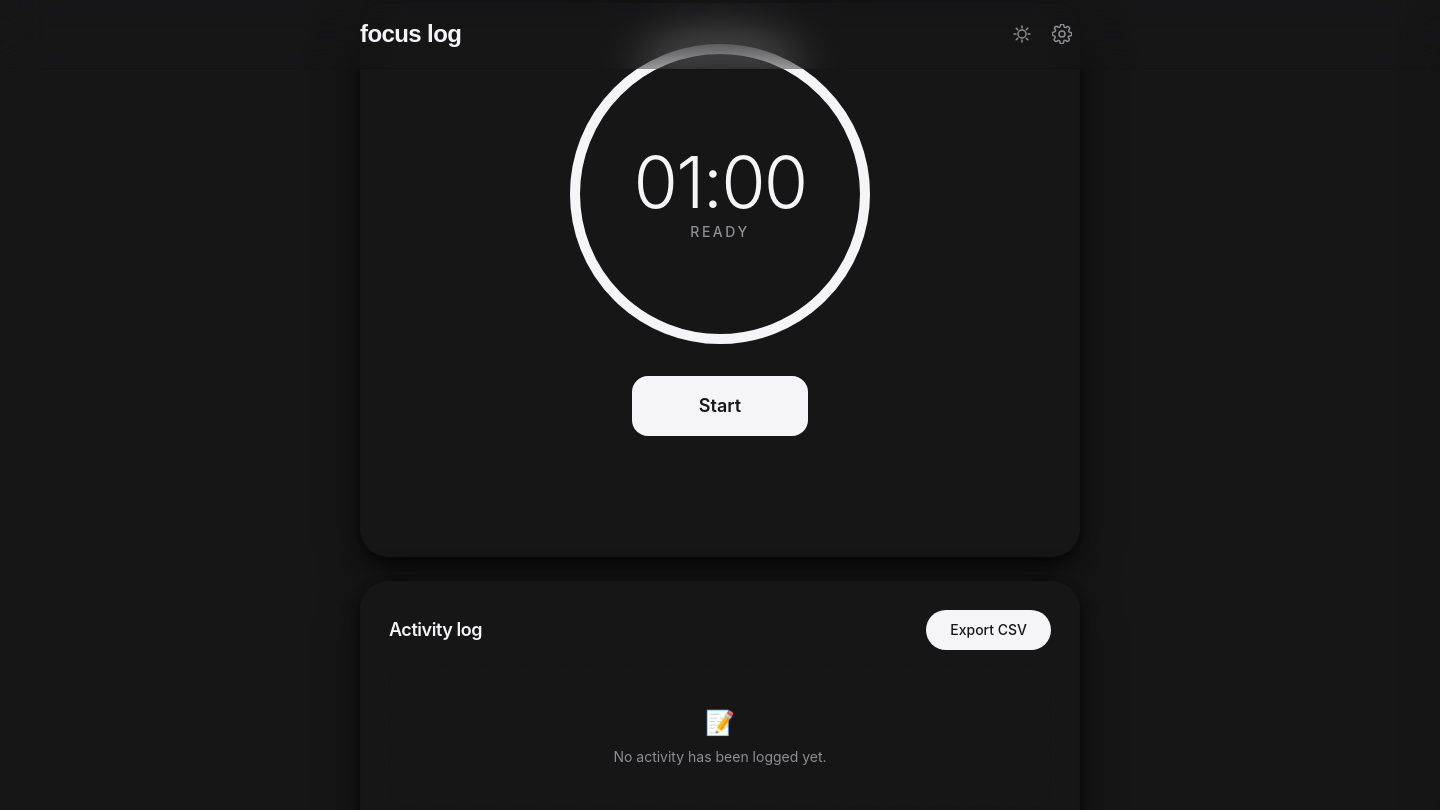
Test: Append/persist failure retention (Req 7.5) › keeps the prompt open with retained text and surfaces a save error
This screenshot has width=1440, height=810.
(page scrolled)
Note: Start a 1-minute session (duration set via initialDurationSec prop).
Click the button "Start": (720, 406) 632,376 -> 808,436
Wait 300 ms
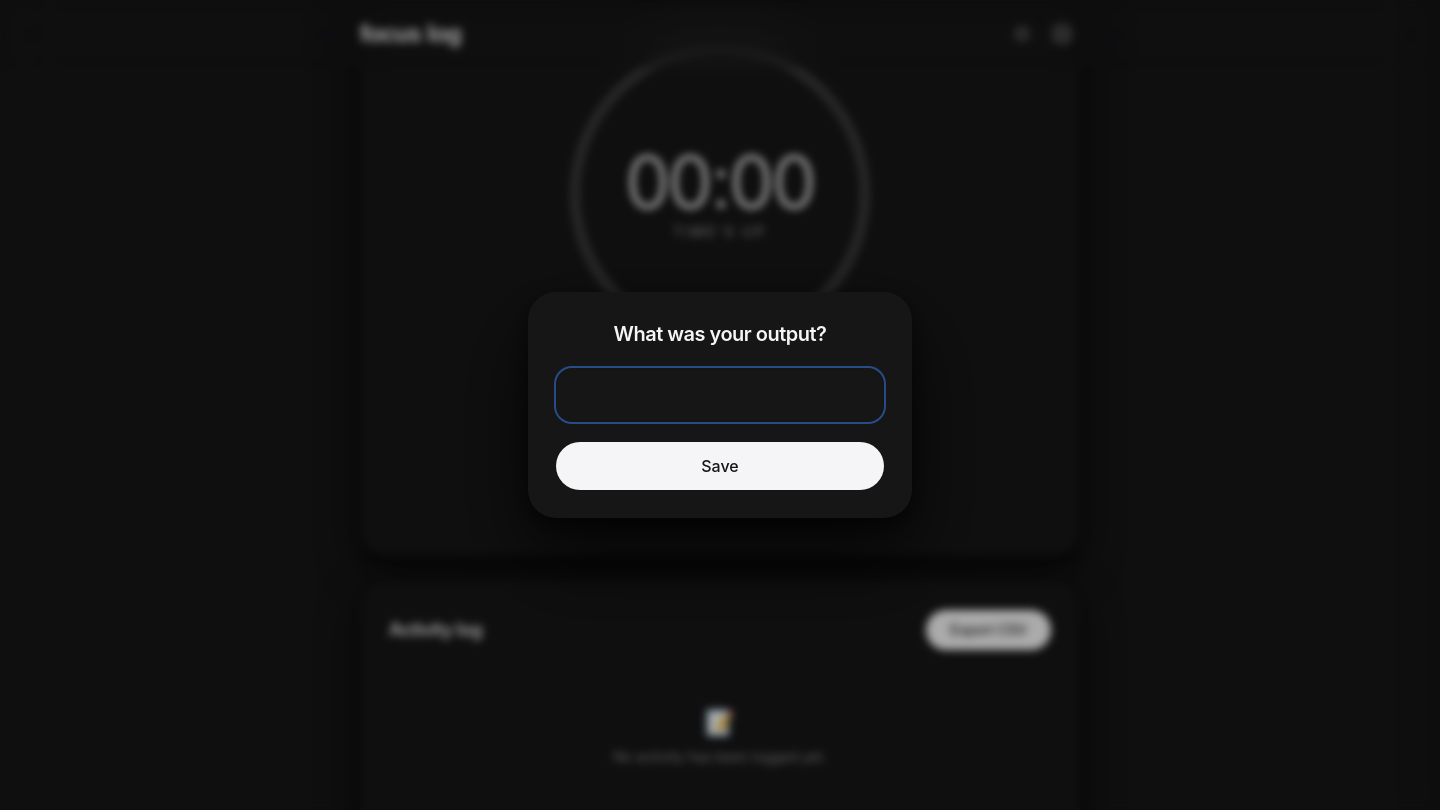
In the field: (720, 395) 556,368 -> 884,422, type "wrote tests"
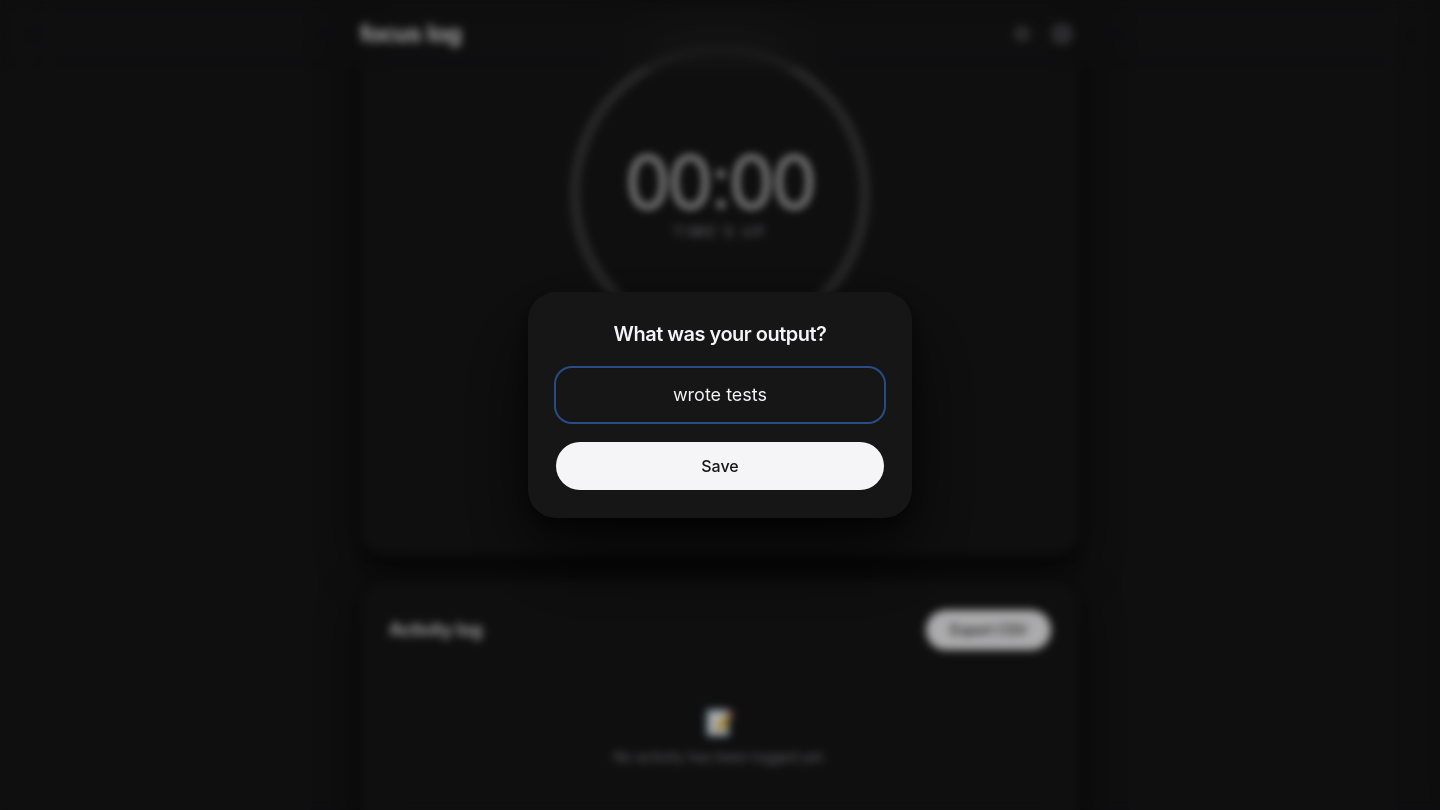
Click the button "Save": (720, 466) 556,442 -> 884,490
(page scrolled)
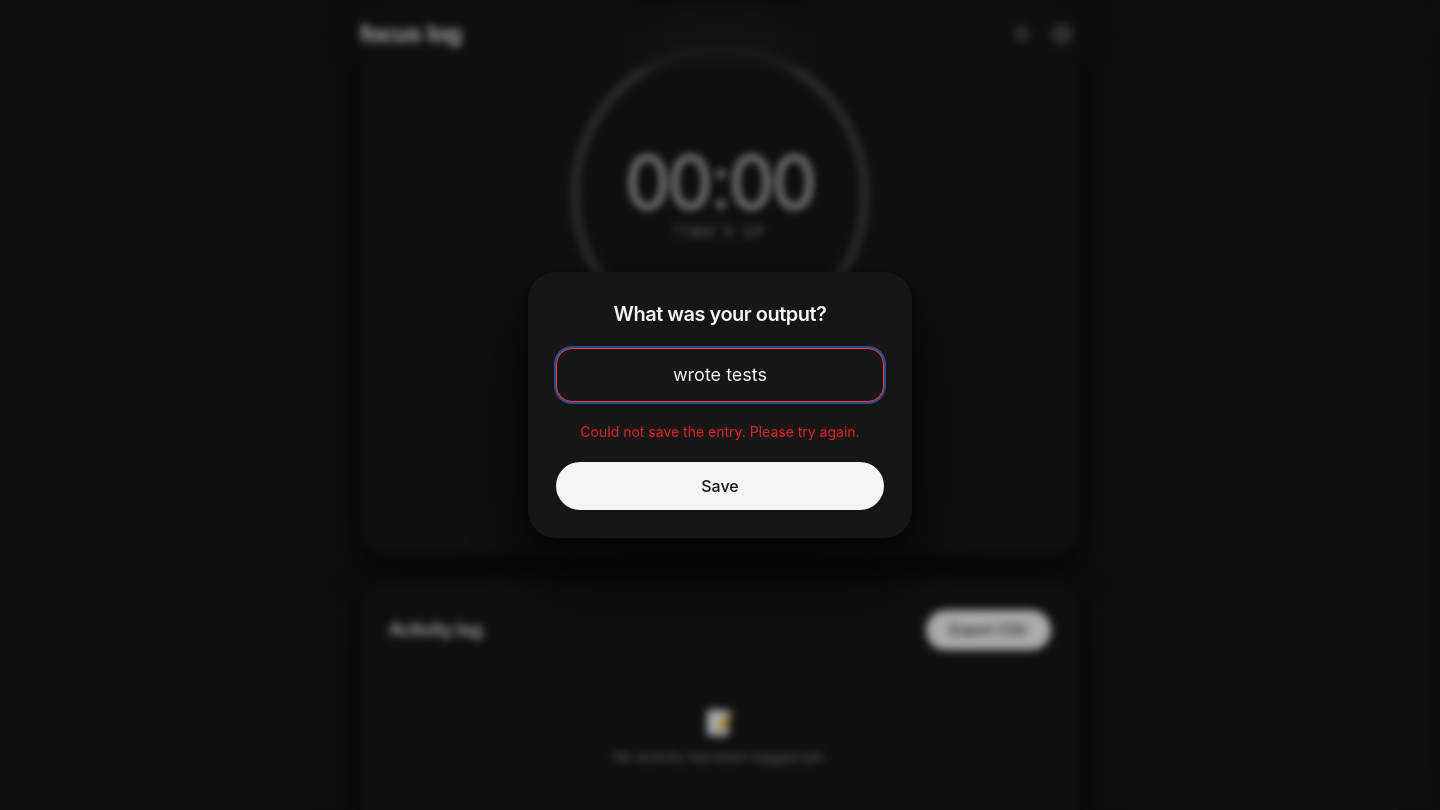
Result: the dialog "What was your output" is shown at 528,272 -> 912,538
Result: the message shows "Could not save the entry" at 580,423 -> 860,440
